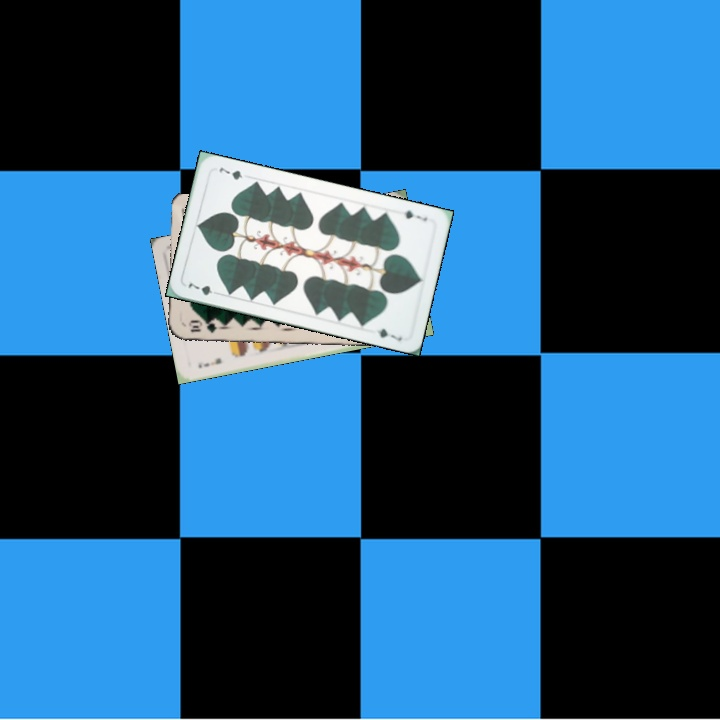E7: (194, 354, 224, 371)
G10: (184, 317, 219, 335)
G7: (184, 279, 223, 298), (400, 206, 430, 223)
